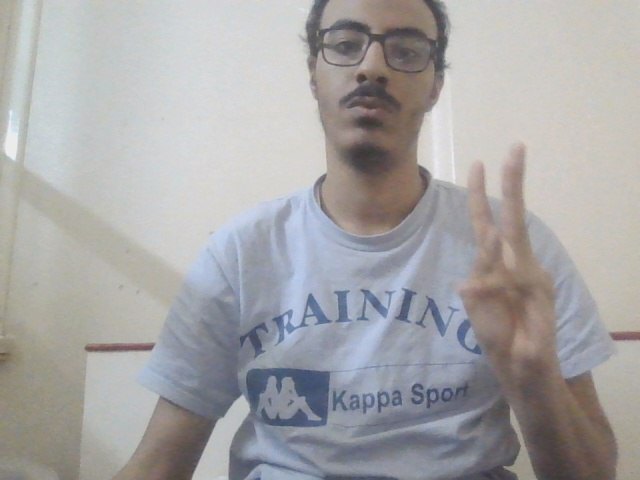Water: (455, 138, 564, 388)
